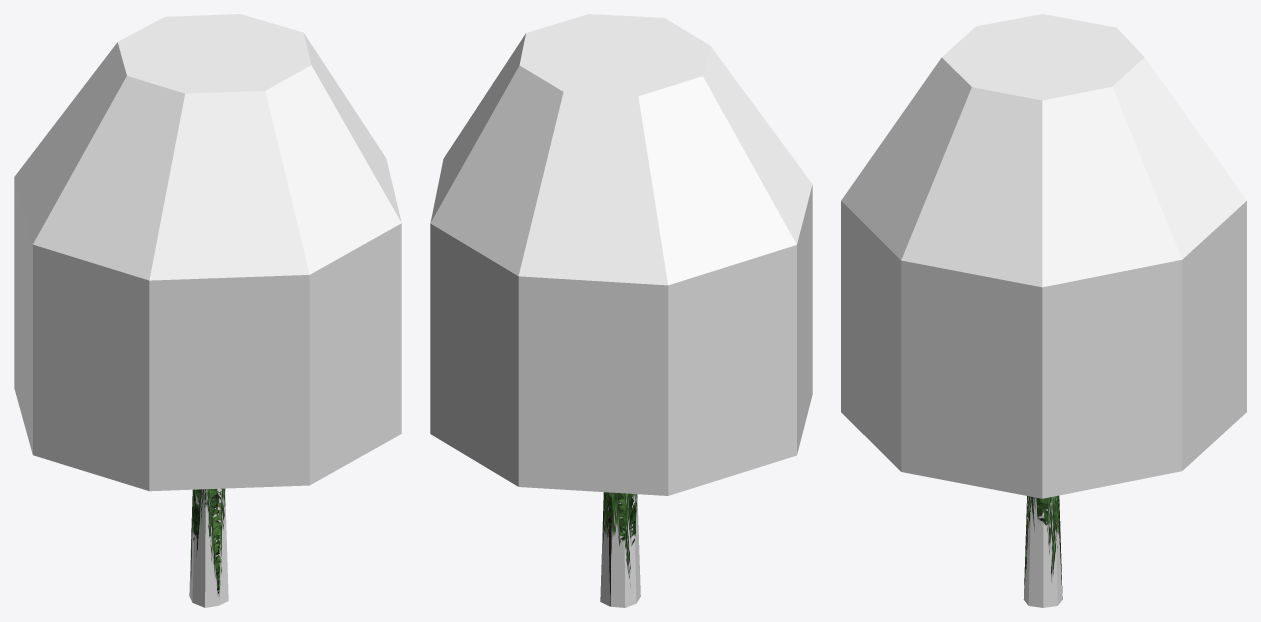
The model's file is tree6_chk.fbx.
The picture shows the model from 3 angles, left to right: view 1: azimuth 30°, elevation 25°; view 2: azimuth 150°, elevation 25°; view 3: azimuth 270°, elevation 25°; orthographic projection.
Visible parts, largest first — view 1: tree3_chk; view 2: tree3_chk; view 3: tree3_chk.
Part boxes in pixels (x1,y1,x2,y2): tree3_chk: (14,14,401,607); tree3_chk: (430,14,812,607); tree3_chk: (841,14,1246,607).
Bounding box in the file's own units: 0.0604 × 0.0888 × 0.0599.
Materials: 1 (1 with a texture image).
